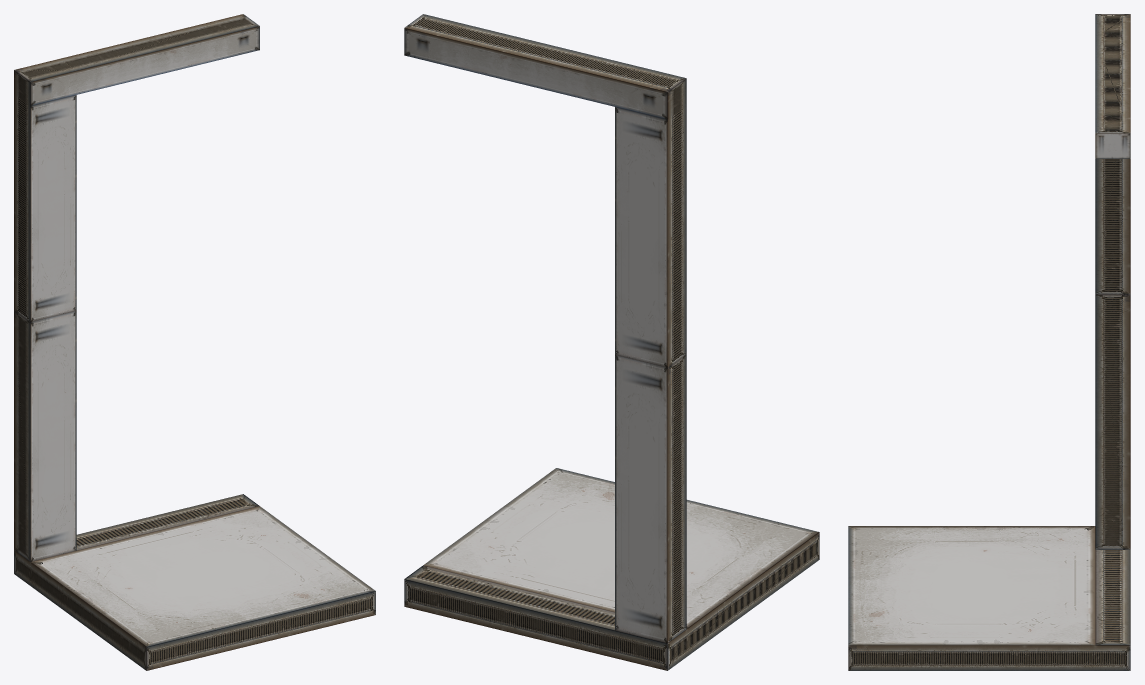
File: scifi_floor_portal_big_L.FBX
3 views of the same model, side by side, from view 1: azimuth 30°, elevation 25°; view 2: azimuth 150°, elevation 25°; view 3: azimuth 270°, elevation 25° (orthographic). The views are drawn at different scales.
Parts seen in each view (by area): view 1: Plane195; view 2: Plane195; view 3: Plane195.
Part boxes in pixels (x1,y1,x2,y2): Plane195: [14, 14, 375, 670]; Plane195: [404, 14, 819, 670]; Plane195: [848, 14, 1130, 670].
Bounding box in the file's own units: 254 × 533 × 254.
